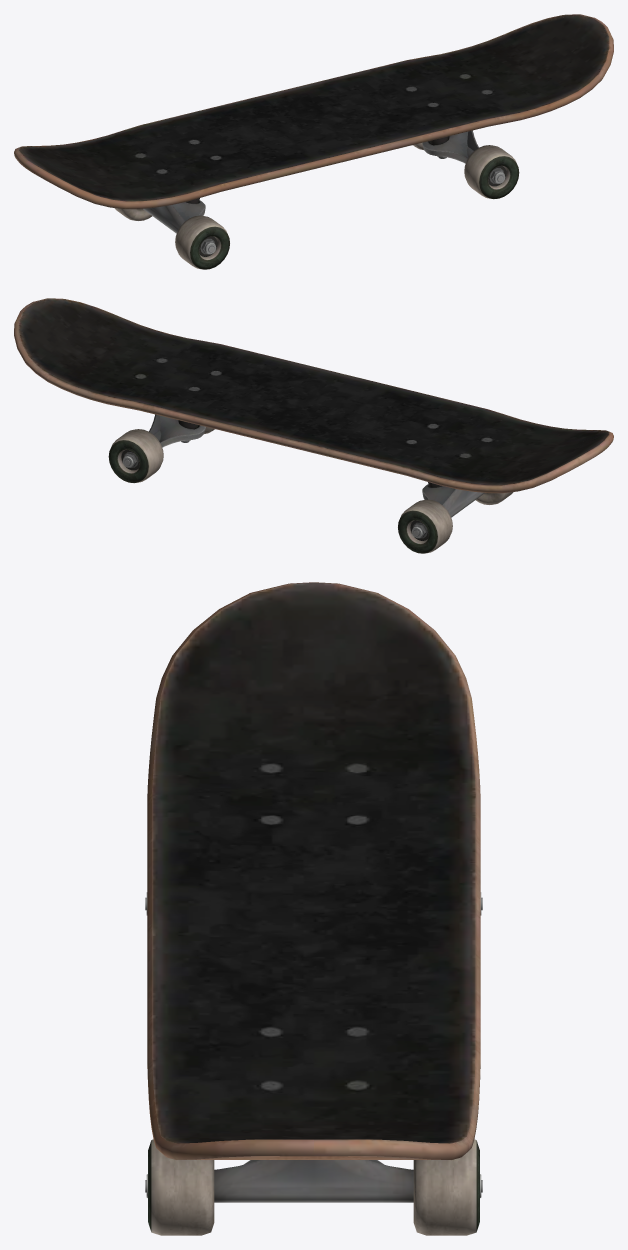
Rendered from skateboard-2.glb.
3 renders of one model, top to bottom at view 1: azimuth 30°, elevation 25°; view 2: azimuth 150°, elevation 25°; view 3: azimuth 270°, elevation 25°, orthographic. The views are drawn at different scales.
Visible parts, largest first — view 1: Base_Skateboard_0; view 2: Base_Skateboard_0; view 3: Base_Skateboard_0.
Boxes of the visible parts, <box> form: Base_Skateboard_0: <box>14,14,613,269</box>; Base_Skateboard_0: <box>14,298,613,553</box>; Base_Skateboard_0: <box>145,582,482,1235</box>.
Bounding box in the file's own units: 0.8 × 0.1513 × 0.2021.
Materials: 1 (1 with a texture image).
